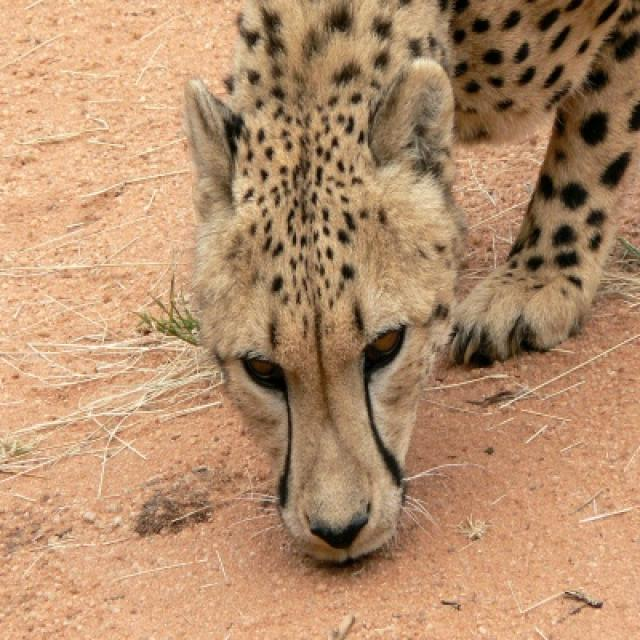Cheetah: (178, 2, 638, 578)
